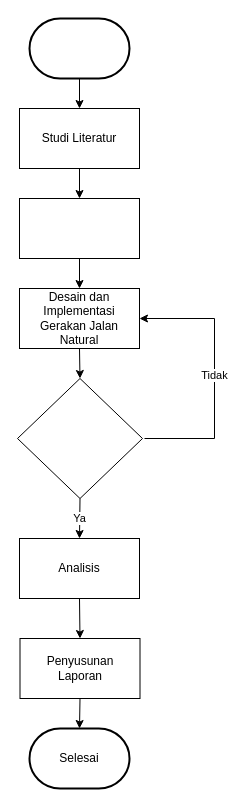
This 245x806 diagram has some shape labels left out. Here are the shapes that lost their labels. From the top down, the centre of each, then its label:
point (79, 48): Mulai
point (79, 228): Desain Robot Humanoid
point (79, 438): Robot Berjalan Seibang?
